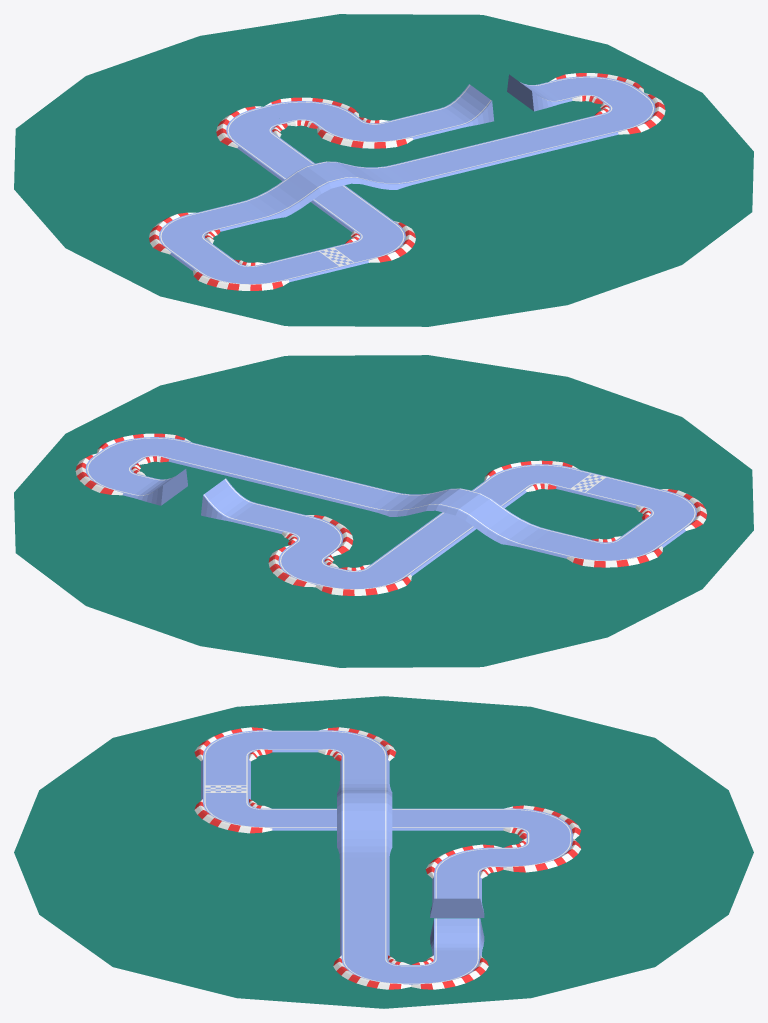
Rendered from race_course.glb.
The picture shows the model from 3 angles, top to bottom: view 1: azimuth 30°, elevation 25°; view 2: azimuth 150°, elevation 25°; view 3: azimuth 270°, elevation 25°; orthographic projection.
Visible parts, largest first — view 1: Plane ground, road straight.011, road straight.007, road curve.003, road curve.004, road curve.007, road curve, road curve.005, road curve.001, road curve.002, road curve.006, road straight.006 (+11 smaller); view 2: Plane ground, road straight.011, road straight.007, road curve.005, road curve.001, road curve.006, road curve.002, road curve.004, road curve.003, road curve.007, road curve, road straight.006 (+11 smaller); view 3: Plane ground, road straight.011, road straight.006, road curve, road curve.007, road curve.006, road curve.002, road curve.004, road curve.005, road curve.001, road curve.003, road ramp.001 (+10 smaller).
Part boxes in pixels (x1,y1,x2,y2): Plane ground: (14,14,753,326); road straight.011: (396,115,618,182); road straight.007: (237,163,341,221); road curve.003: (317,117,413,148); road curve.004: (193,259,289,290); road curve.007: (594,92,665,134); road curve: (345,221,415,262); road curve.005: (149,212,220,254); road curve.001: (216,106,287,147); road curve.002: (264,97,359,128); road curve.006: (549,73,644,104); road straight.006: (316,161,419,189); Plane ground: (14,355,753,667); road straight.011: (168,442,390,509); road straight.007: (446,490,549,548); road curve.005: (566,536,662,567); road curve.001: (315,564,411,595); road curve.006: (75,453,145,495); road curve.002: (268,545,338,587); road curve.004: (635,489,706,530); road curve.003: (282,515,353,556); road curve.007: (97,433,191,464); road curve: (484,460,579,491); road straight.006: (367,488,470,516); Plane ground: (14,696,753,1008); road straight.011: (340,857,389,956); road straight.006: (337,798,392,858); road curve: (194,799,272,833); road curve.007: (333,955,410,989); road curve.006: (411,955,488,989); road curve.002: (503,838,580,872); road curve.004: (194,727,272,761); road curve.005: (318,727,396,761); road curve.001: (503,805,581,839); road curve.003: (425,844,503,878); road ramp.001: (430,918,484,956).
Bounding box in the file's own units: 160 × 6.56 × 160.
1 material, 1 textured.
